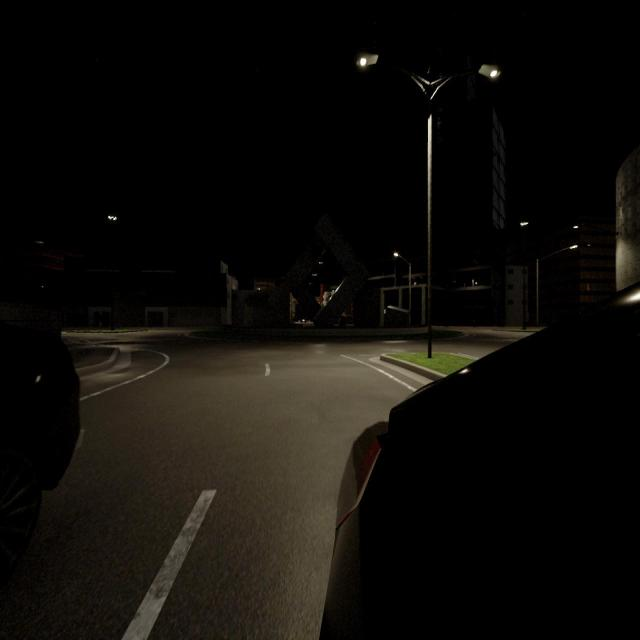Vehicle: (323, 290, 640, 640), (0, 321, 78, 588)
